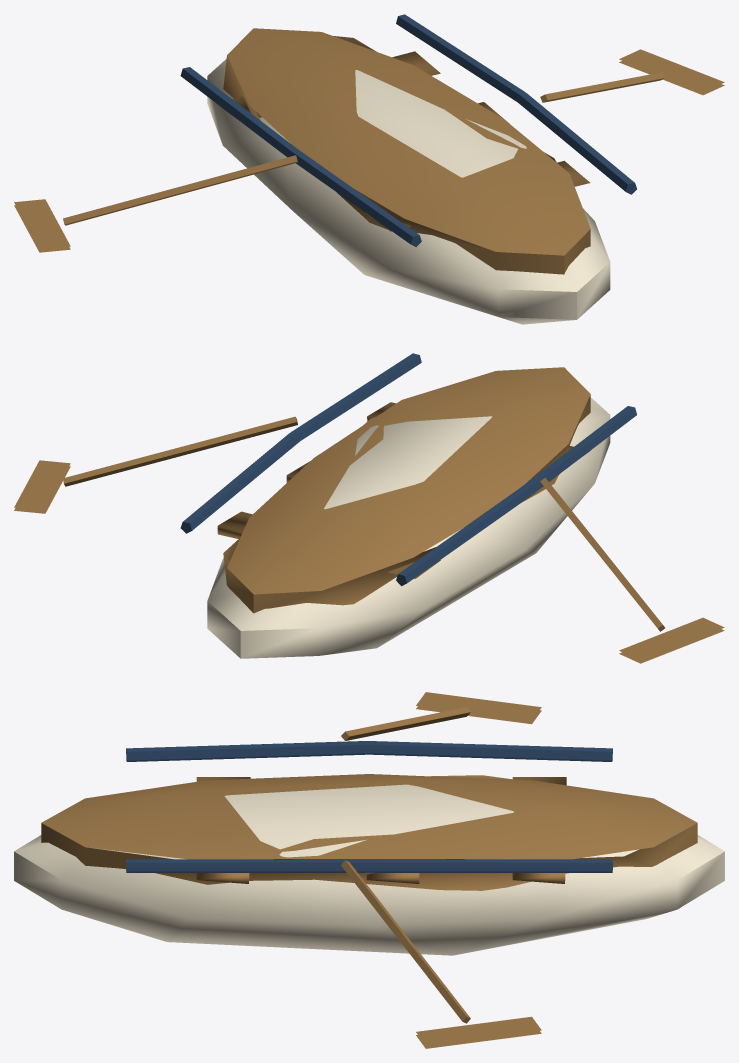
Rendered from lod_rowboat.glb.
3 renders of one model, top to bottom at view 1: azimuth 30°, elevation 25°; view 2: azimuth 150°, elevation 25°; view 3: azimuth 270°, elevation 25°, orthographic. The views are drawn at different scales.
Visible parts, largest first — view 1: rowboat; view 2: rowboat; view 3: rowboat.
Boxes of the visible parts, bbox=[...] form: rowboat: bbox=[14, 14, 724, 324]; rowboat: bbox=[14, 353, 724, 663]; rowboat: bbox=[14, 692, 724, 1048].
Bounding box in the file's own units: 3.44 × 0.618 × 2.92.
